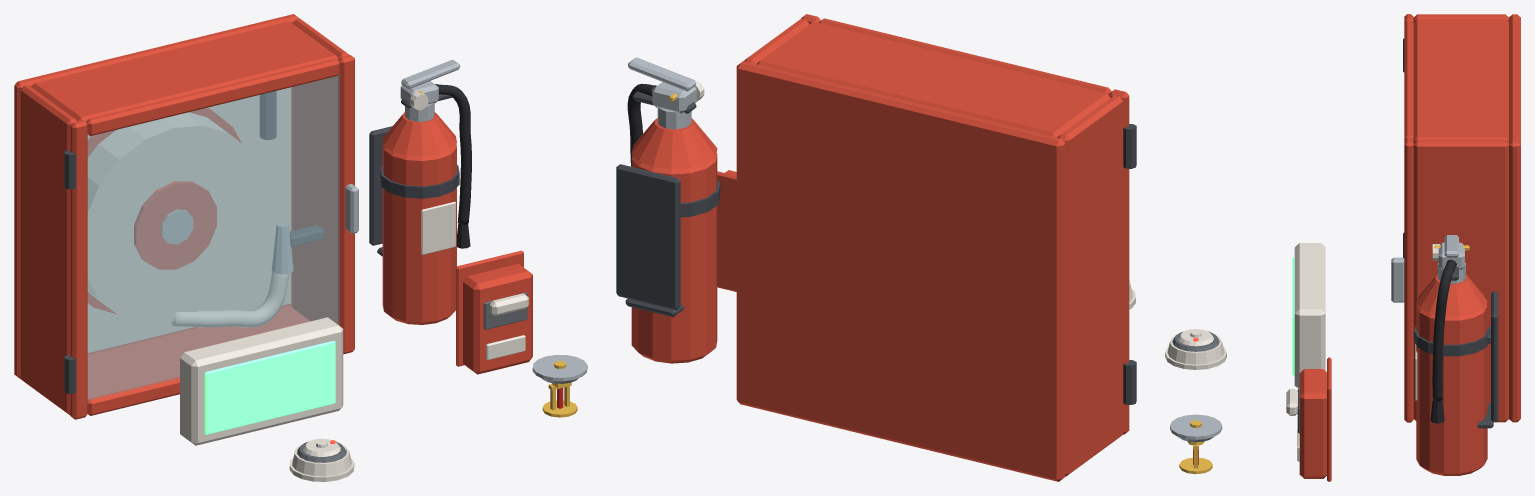
File: fire-safety-props.glb
3 renders of one model, left to right at view 1: azimuth 30°, elevation 25°; view 2: azimuth 150°, elevation 25°; view 3: azimuth 270°, elevation 25°, orthographic. The views are drawn at different scales.
Visible parts, largest first — view 1: Door_Glass, Reel_Hose, Door, Cab_Left, Cab_Top, Cab_Right, Extinguisher, Cab_Interior, Exit_Face, Exit_Housing, Cab_Bottom, Pull_Body (+20 smaller); view 2: Cab_Back, Cab_Left, Cab_Top, Extinguisher, Bracket_Plate, Door, Ext_Shoulder, Pull_BackPlate, Ext_ValveHead, Ext_Lever, Ext_Hose, Cab_Right (+4 smaller); view 3: Cab_Right, Cab_Top, Extinguisher, Cab_Back, Exit_Housing, Door, Pull_Body, Ext_Shoulder, Ext_Hose, Bracket_Plate, Spr_Escutcheon, Bracket_Strap (+9 smaller).
Part boxes in pixels (x1=…): Door_Glass: x1=87, y1=73, x2=339, y2=402; Reel_Hose: x1=88, y1=112, x2=266, y2=323; Door: x1=70, y1=55, x2=354, y2=419; Cab_Left: x1=20, y1=85, x2=77, y2=415; Cab_Top: x1=32, y1=21, x2=338, y2=121; Cab_Right: x1=292, y1=18, x2=349, y2=323; Extinguisher: x1=382, y1=142, x2=456, y2=324; Cab_Interior: x1=88, y1=87, x2=290, y2=352; Exit_Face: x1=204, y1=340, x2=335, y2=434; Exit_Housing: x1=180, y1=317, x2=343, y2=445; Cab_Bottom: x1=88, y1=306, x2=309, y2=398; Pull_Body: x1=463, y1=264, x2=532, y2=374; Cab_Back: x1=736, y1=61, x2=1065, y2=481; Cab_Left: x1=1057, y1=95, x2=1123, y2=476; Cab_Top: x1=756, y1=21, x2=1110, y2=137; Extinguisher: x1=631, y1=153, x2=717, y2=363; Bracket_Plate: x1=616, y1=164, x2=680, y2=310; Door: x1=801, y1=14, x2=1129, y2=434; Ext_Shoulder: x1=631, y1=118, x2=717, y2=169; Pull_BackPlate: x1=717, y1=171, x2=736, y2=291; Ext_ValveHead: x1=652, y1=82, x2=696, y2=113; Ext_Lever: x1=628, y1=57, x2=695, y2=91; Ext_Hose: x1=627, y1=83, x2=656, y2=166; Cab_Right: x1=744, y1=18, x2=809, y2=63; Cab_Right: x1=1413, y1=140, x2=1508, y2=422; Cab_Top: x1=1413, y1=19, x2=1508, y2=142; Extinguisher: x1=1416, y1=304, x2=1487, y2=475; Cab_Back: x1=1509, y1=14, x2=1520, y2=422; Exit_Housing: x1=1294, y1=243, x2=1325, y2=388; Door: x1=1404, y1=14, x2=1413, y2=422; Pull_Body: x1=1299, y1=369, x2=1326, y2=478; Ext_Shoulder: x1=1416, y1=274, x2=1487, y2=316; Ext_Hose: x1=1432, y1=259, x2=1456, y2=401; Bracket_Plate: x1=1491, y1=291, x2=1498, y2=422; Spr_Escutcheon: x1=1170, y1=414, x2=1222, y2=439; Bracket_Strap: x1=1413, y1=326, x2=1489, y2=356.
Bounding box in the file's own units: 3.88 × 2.6 × 2.99.
